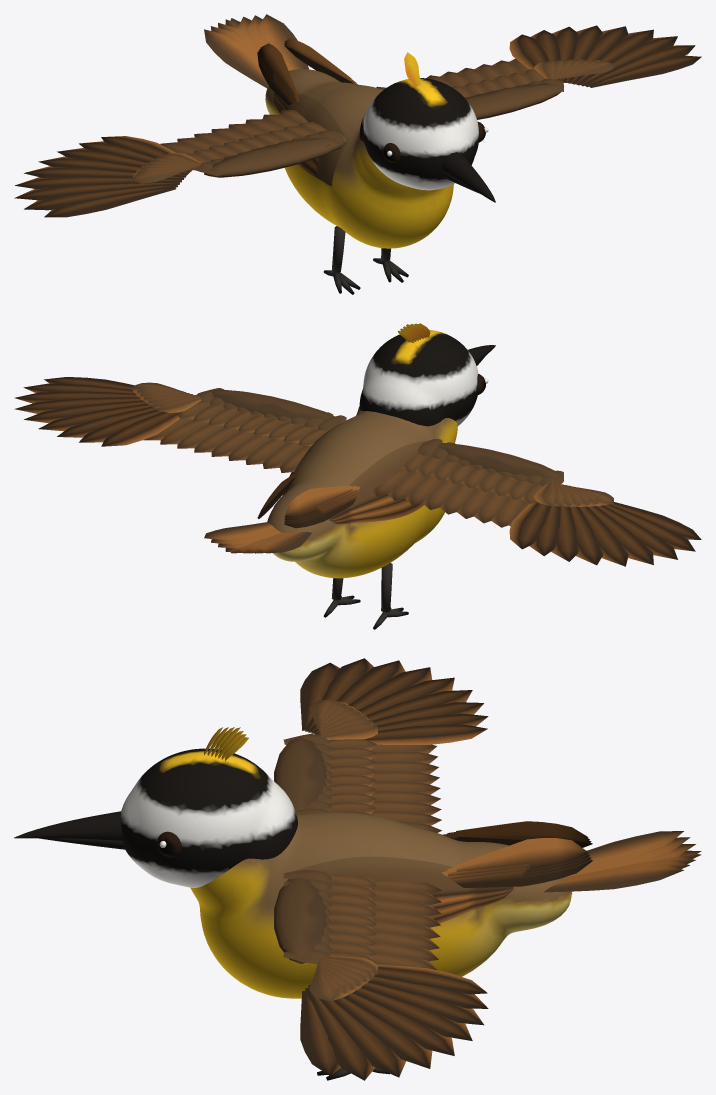
File: bemtevi.glb
3 views of the same model, one above another, from view 1: azimuth 30°, elevation 25°; view 2: azimuth 150°, elevation 25°; view 3: azimuth 270°, elevation 25° (orthographic). The views are drawn at different scales.
Parts seen in each view (by area): view 1: corpo, asa_E_mao, cabeca_malha, asa_D_mao, asa_E_braco, asa_D_braco, cauda_penas, asa_fechada_E, pernas, bico_sup, asa_fechada_D; view 2: corpo, asa_E_mao, asa_E_braco, asa_D_braco, cabeca_malha, asa_D_mao, asa_fechada_E, cauda_penas, pernas, asa_fechada_D; view 3: corpo, cabeca_malha, asa_D_mao, asa_D_braco, asa_E_mao, asa_E_braco, asa_fechada_D, cauda_penas, asa_fechada_E, bico_sup, crista_penas.
Boxes of the visible parts, x1=… form: corpo: x1=265, y1=69, x2=453, y2=248; asa_E_mao: x1=14, y1=136, x2=201, y2=217; cabeca_malha: x1=359, y1=78, x2=479, y2=190; asa_D_mao: x1=509, y1=25, x2=701, y2=87; asa_E_braco: x1=160, y1=110, x2=346, y2=177; asa_D_braco: x1=376, y1=58, x2=563, y2=119; cauda_penas: x1=204, y1=14, x2=309, y2=88; asa_fechada_E: x1=257, y1=43, x2=347, y2=186; pernas: x1=323, y1=226, x2=408, y2=294; bico_sup: x1=440, y1=152, x2=495, y2=202; asa_fechada_D: x1=284, y1=38, x2=357, y2=84; corpo: x1=267, y1=406, x2=457, y2=578; asa_E_mao: x1=509, y1=482, x2=701, y2=566; asa_E_braco: x1=372, y1=439, x2=563, y2=527; asa_D_braco: x1=143, y1=388, x2=346, y2=472; cabeca_malha: x1=359, y1=330, x2=478, y2=426; asa_D_mao: x1=14, y1=377, x2=201, y2=446; asa_fechada_E: x1=284, y1=441, x2=425, y2=528; cauda_penas: x1=204, y1=522, x2=311, y2=553; pernas: x1=323, y1=563, x2=408, y2=629; asa_fechada_D: x1=257, y1=424, x2=339, y2=518; corpo: x1=190, y1=812, x2=572, y2=998; cabeca_malha: x1=121, y1=748, x2=297, y2=887; asa_D_mao: x1=300, y1=956, x2=488, y2=1080; asa_D_braco: x1=274, y1=870, x2=441, y2=970; asa_E_mao: x1=300, y1=658, x2=488, y2=744; asa_E_braco: x1=274, y1=734, x2=441, y2=832; asa_fechada_D: x1=296, y1=838, x2=592, y2=923; cauda_penas: x1=544, y1=831, x2=701, y2=892; asa_fechada_E: x1=412, y1=821, x2=592, y2=847; bico_sup: x1=14, y1=811, x2=123, y2=840; crista_penas: x1=204, y1=727, x2=248, y2=760.
Bounding box in the file's own units: 1.15 × 0.4207 × 0.7878.
